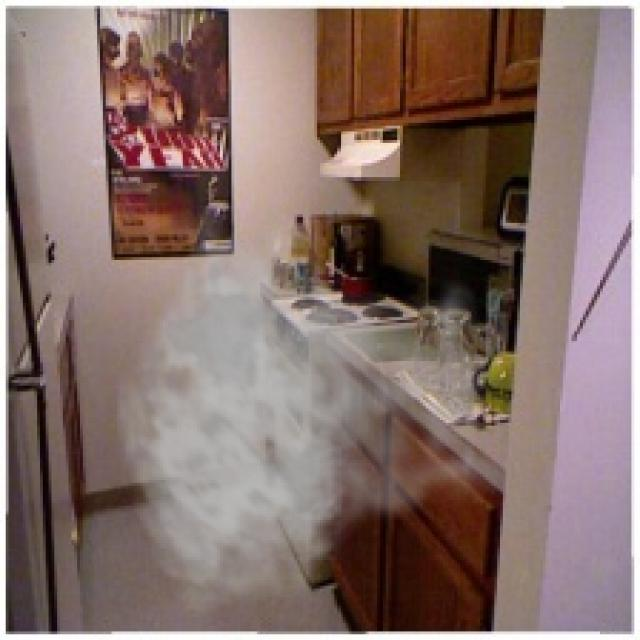smoke: (114, 206, 517, 617)
